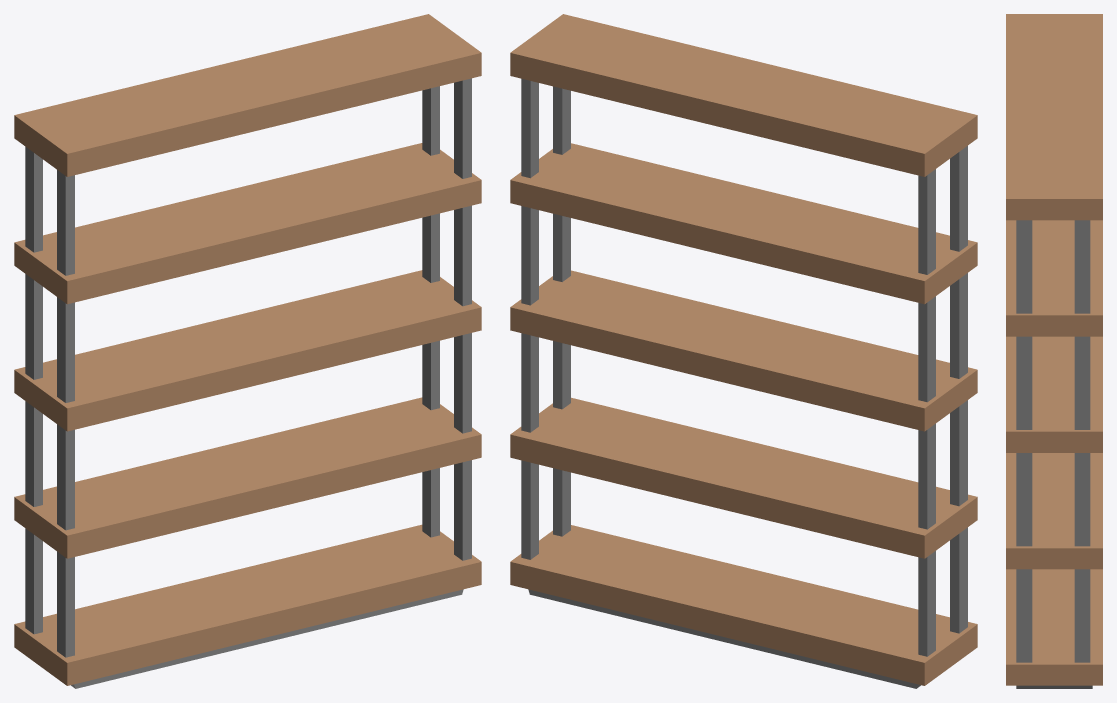
The model's file is Modern Shelves.fbx.
The picture shows the model from 3 angles, left to right: view 1: azimuth 30°, elevation 25°; view 2: azimuth 150°, elevation 25°; view 3: azimuth 270°, elevation 25°; orthographic projection. The views are drawn at different scales.
Parts seen in each view (by area): view 1: Modern Shelves; view 2: Modern Shelves; view 3: Modern Shelves.
Boxes of the visible parts, x1=… form: Modern Shelves: x1=14, y1=14, x2=481, y2=688; Modern Shelves: x1=510, y1=14, x2=977, y2=688; Modern Shelves: x1=1006, y1=14, x2=1102, y2=688.
Bounding box in the file's own units: 124 × 156 × 27.57.
